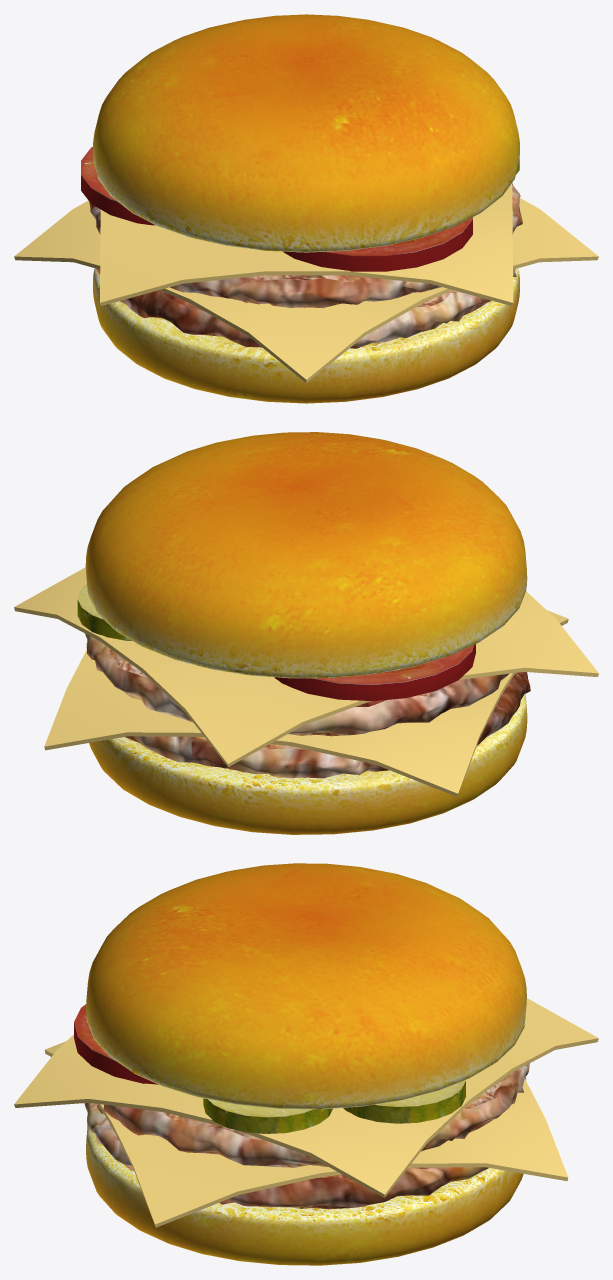
The model's file is barger.glb.
3 views of the same model, one above another, from view 1: azimuth 30°, elevation 25°; view 2: azimuth 150°, elevation 25°; view 3: azimuth 270°, elevation 25° (orthographic). The views are drawn at different scales.
Parts seen in each view (by area): view 1: bager; view 2: bager; view 3: bager.
Part boxes in pixels (x1,y1,x2,y2): bager: [14, 14, 598, 403]; bager: [14, 432, 598, 834]; bager: [14, 863, 598, 1265].
Size of the model in its own units: 0.1999 by 0.1 by 0.2002.
6 materials, 6 textured.
